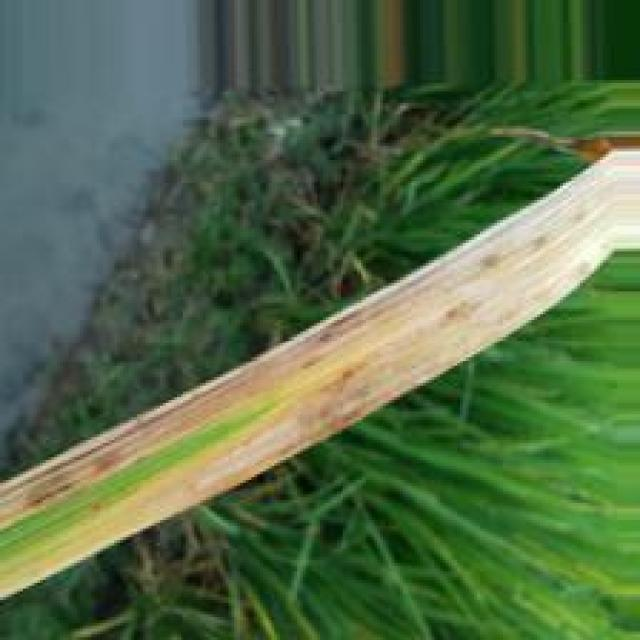Leaf_Scald: (0, 143, 640, 605)
